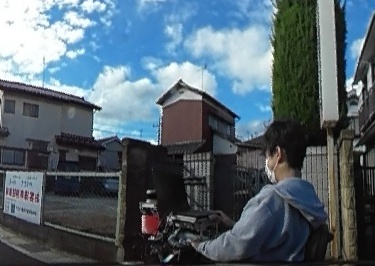person: (192, 120, 322, 264)
